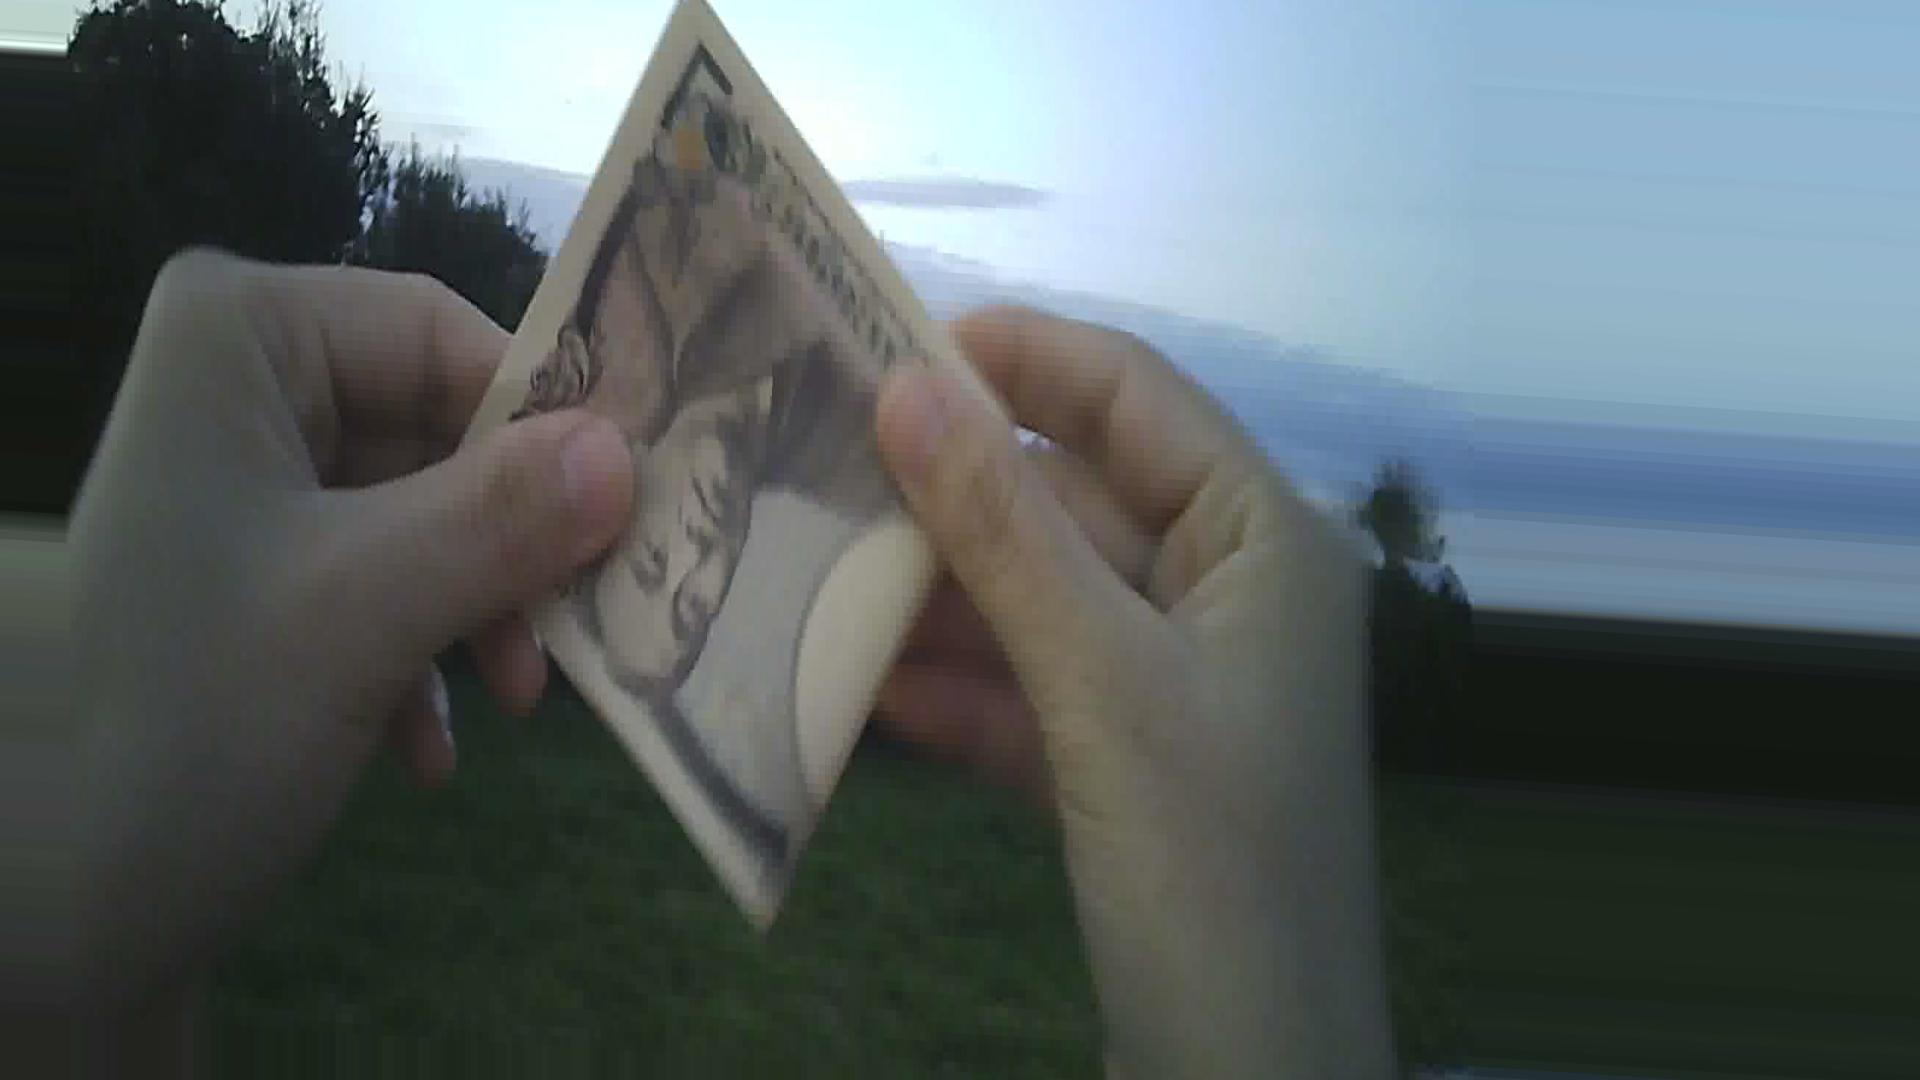10,000 Yen: (369, 15, 978, 920)
